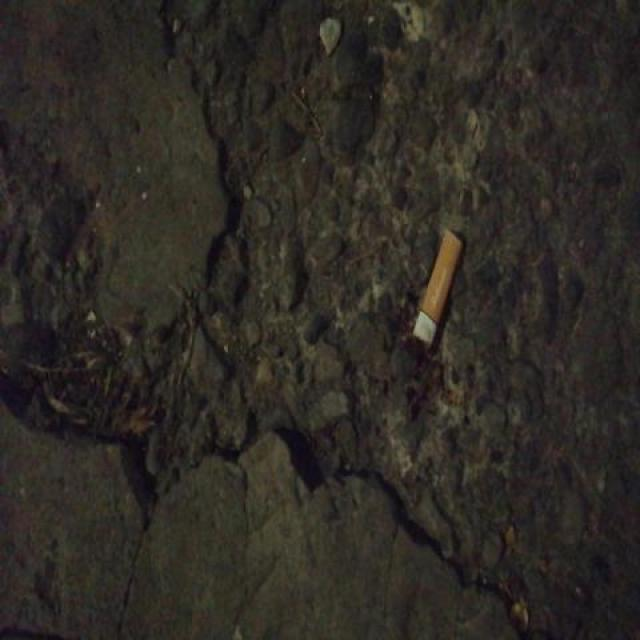non-organic waste: (409, 222, 467, 355)
